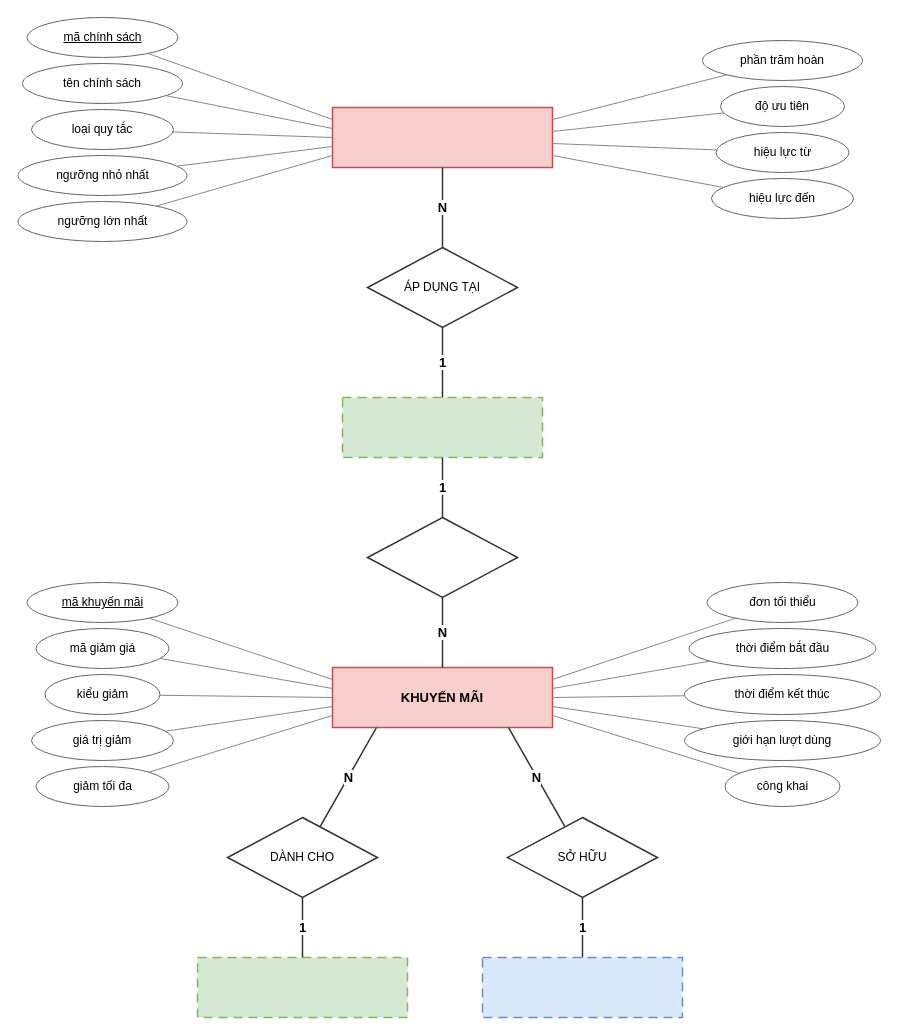
Some shapes in this 898 by 1036 pixel diagram are drawn without their labels. The centre of each missing label's shape, as x and y in pixels:
"CHI NHÁNH" goes at point (442, 427).
"CHÍNH SÁCH HỦY" goes at point (442, 137).
"GIỚI HẠN Ở" goes at point (442, 557).
"LOẠI KHÔNG GIAN" goes at point (302, 987).
"NGƯỜI DÙNG" goes at point (582, 987).
